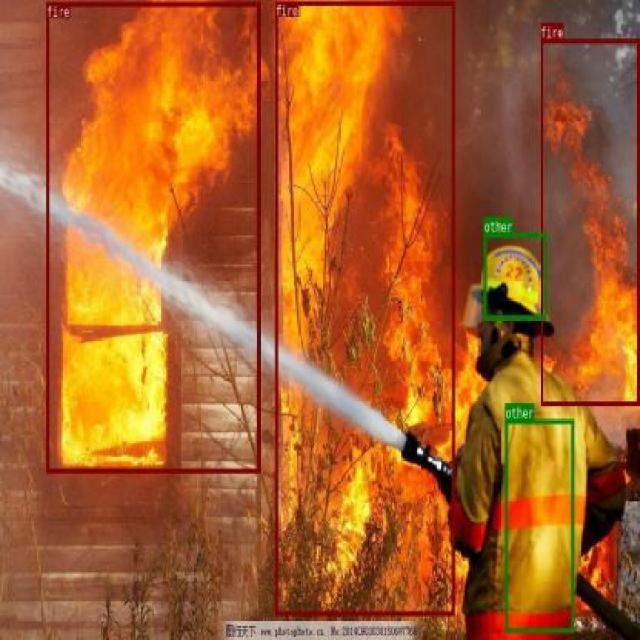Fire: (274, 1, 453, 614), (46, 1, 260, 472), (540, 38, 638, 404)
